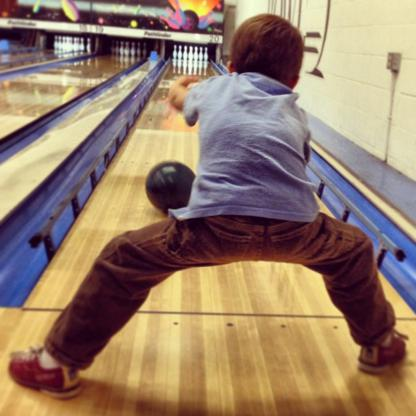Ball: (146, 160, 195, 215)
